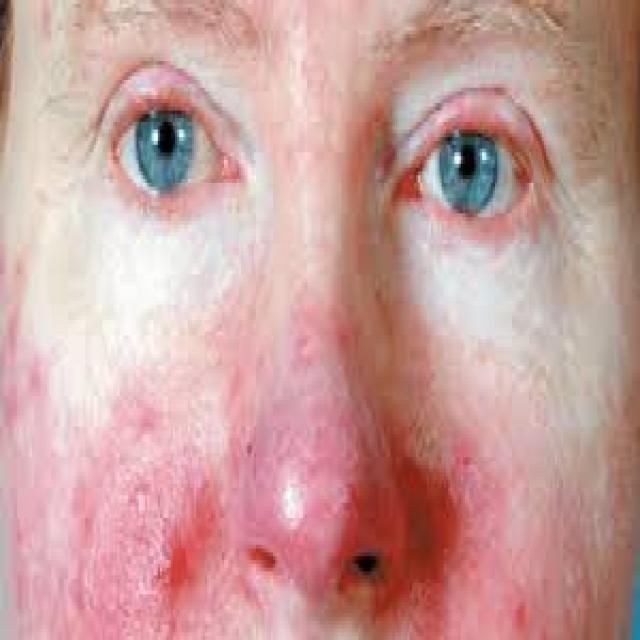Rosacea: (48, 386, 217, 640), (243, 404, 401, 598), (403, 439, 530, 640)
